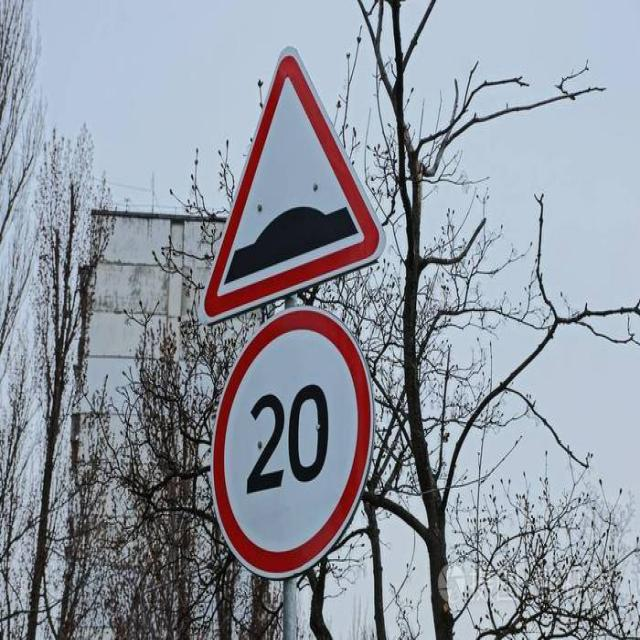speed limit 20: (211, 307, 374, 580)
